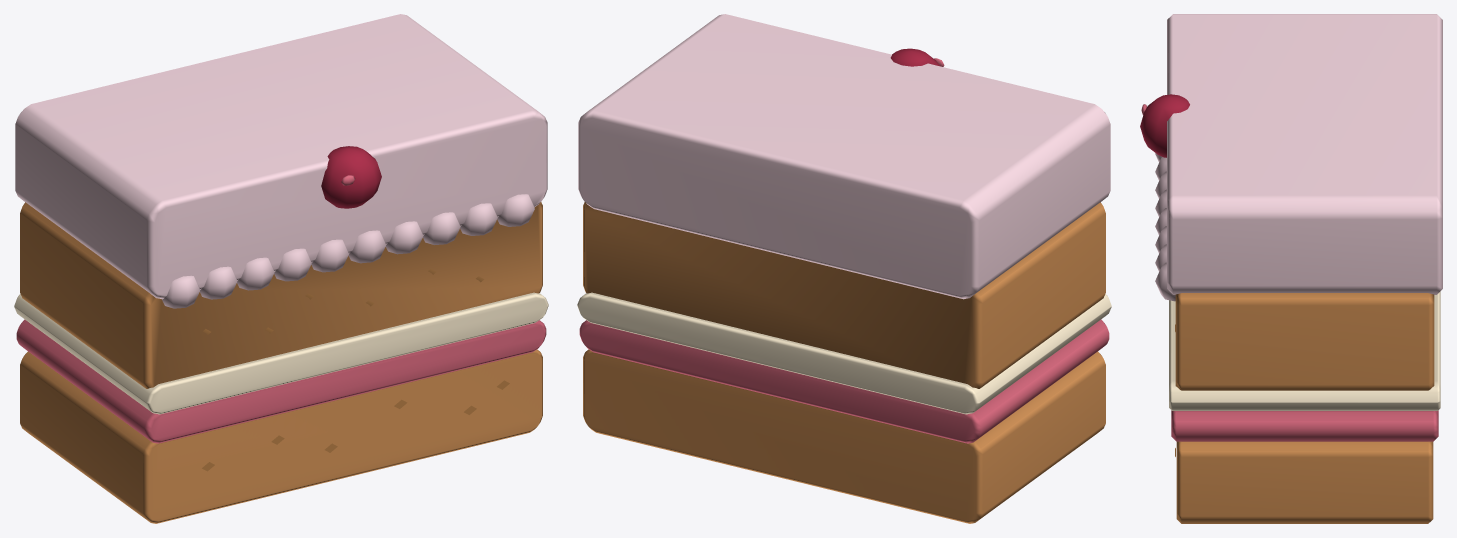
File: snack_cake.glb
The picture shows the model from 3 angles, left to right: view 1: azimuth 30°, elevation 25°; view 2: azimuth 150°, elevation 25°; view 3: azimuth 270°, elevation 25°; orthographic projection.
Parts seen in each view (by area): view 1: Lower sponge; view 2: Lower sponge; view 3: Lower sponge.
Boxes of the visible parts, x1,y1,x2,y2 form: Lower sponge: [14, 14, 548, 523]; Lower sponge: [577, 14, 1111, 523]; Lower sponge: [1140, 14, 1442, 523].
Size of the model in its own units: 2.2 by 1.74 by 1.43.
